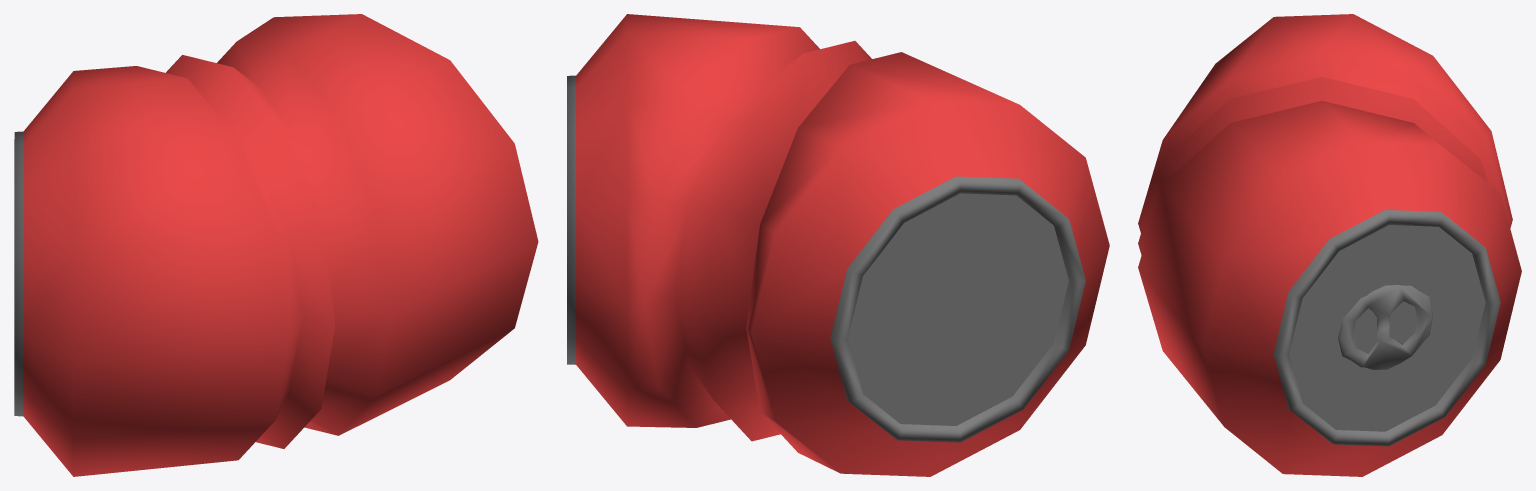
Rendered from trash_probs.fbx.
3 views of the same model, side by side, from view 1: azimuth 30°, elevation 25°; view 2: azimuth 150°, elevation 25°; view 3: azimuth 270°, elevation 25° (orthographic). The views are drawn at different scales.
Parts seen in each view (by area): view 1: Cylinder; view 2: Cylinder; view 3: Cylinder.
Boxes of the visible parts, x1,y1,x2,y2 form: Cylinder: (14,14,538,476); Cylinder: (567,14,1109,476); Cylinder: (1138,14,1521,476).
Size of the model in its own units: 0.0947 by 0.0661 by 0.069.
